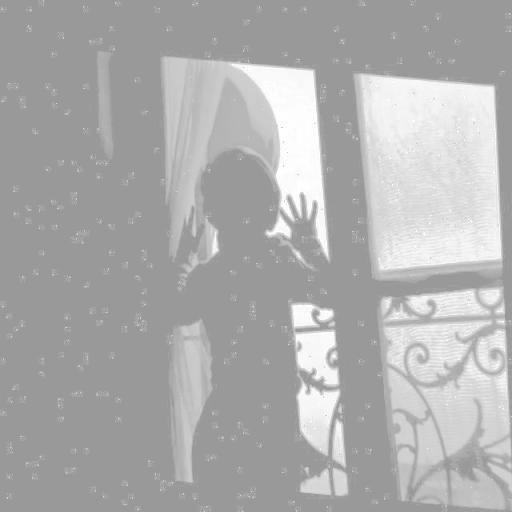balloon: (201, 57, 279, 172)
